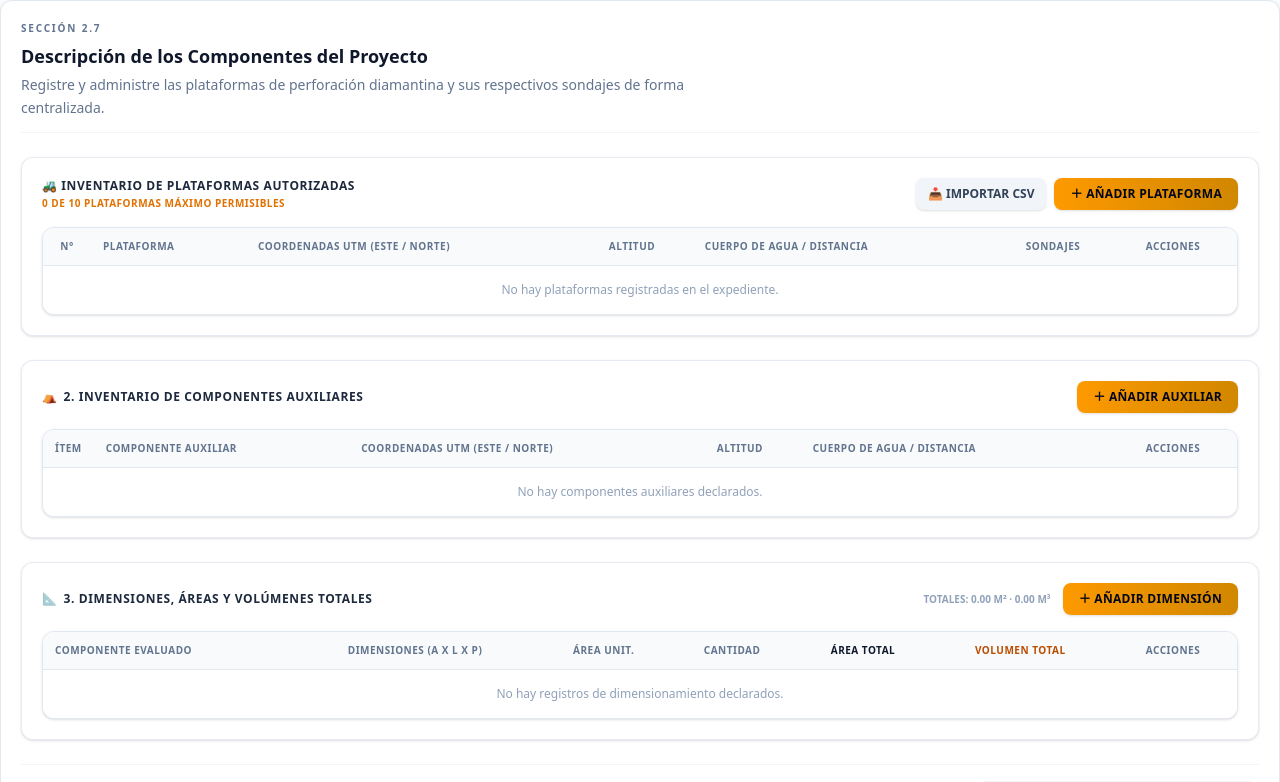
Test: ComponentesComponent › inventario de plataformas › cuenta los sondajes que se declararon en el popup
Click the button "＋ Añadir Plataforma" at {"x": 1146, "y": 194}, box [1054,178,1238,210]
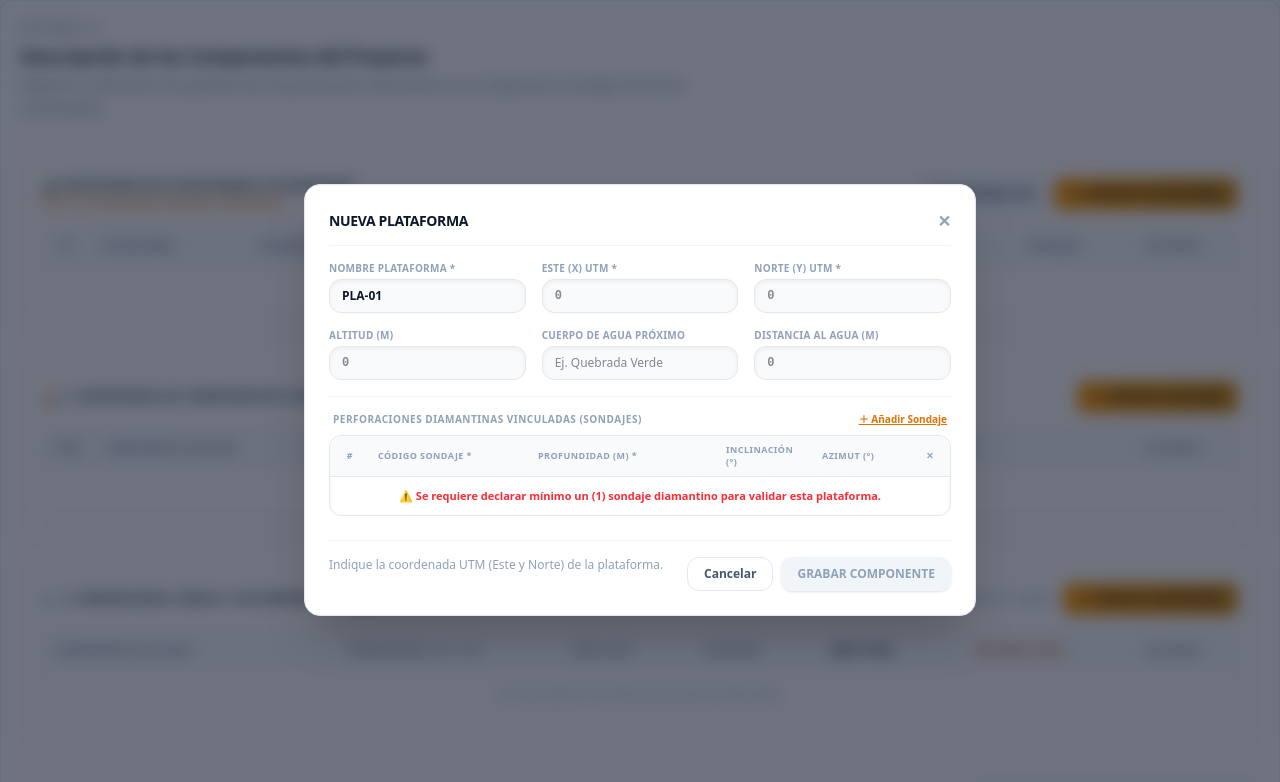
Replace the text in the field labelled "Nombre Plataforma *" with "PL-01" at {"x": 427, "y": 296}, box [329,279,526,313]
Type "431250" into the number field labelled "Este (X) UTM *" at {"x": 640, "y": 296}, box [542,279,738,313]
Type "8674320" into the number field labelled "Norte (Y) UTM *" at {"x": 853, "y": 296}, box [754,279,951,313]
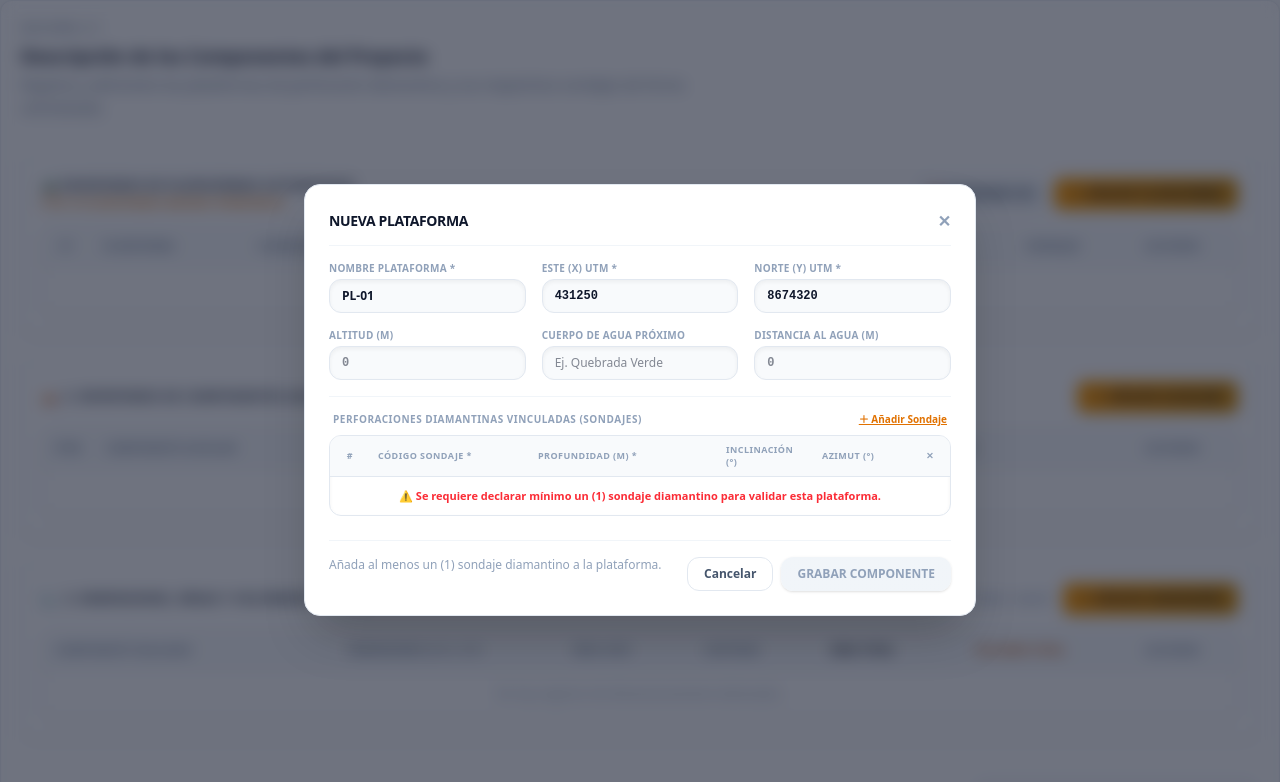
Click the button "＋ Añadir Sondaje" at {"x": 903, "y": 420}, box [859,413,947,427]
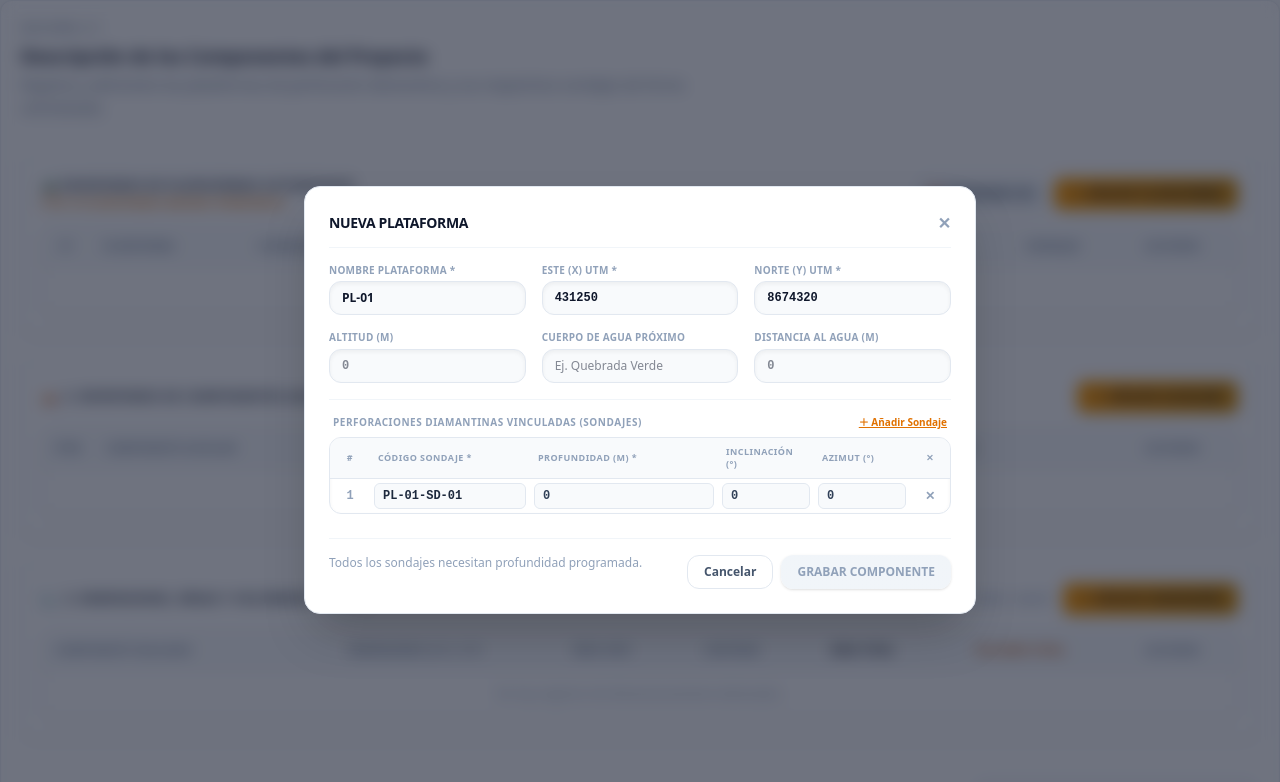
Replace the text in the 3rd field with "DDH-01" at {"x": 450, "y": 496}, box [374,483,526,509]
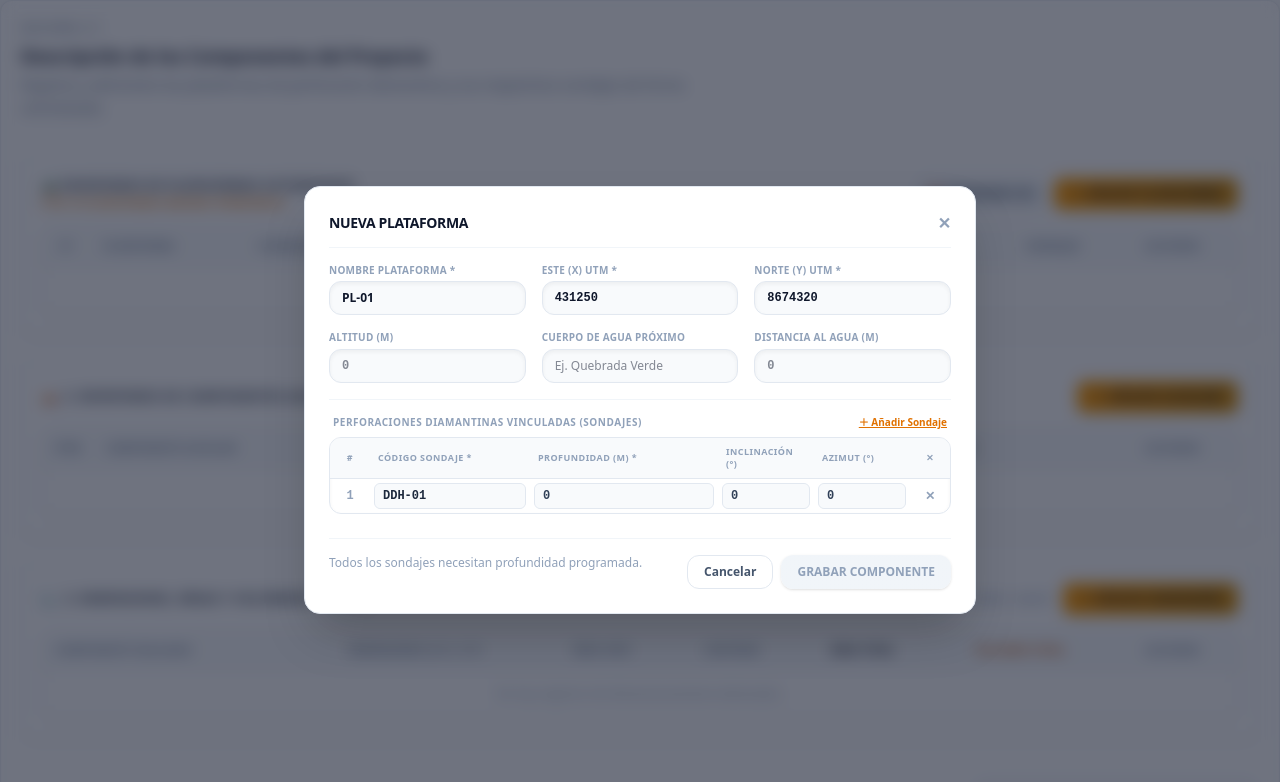
Type "100" into the 5th number field at {"x": 624, "y": 496}, box [534,483,714,509]
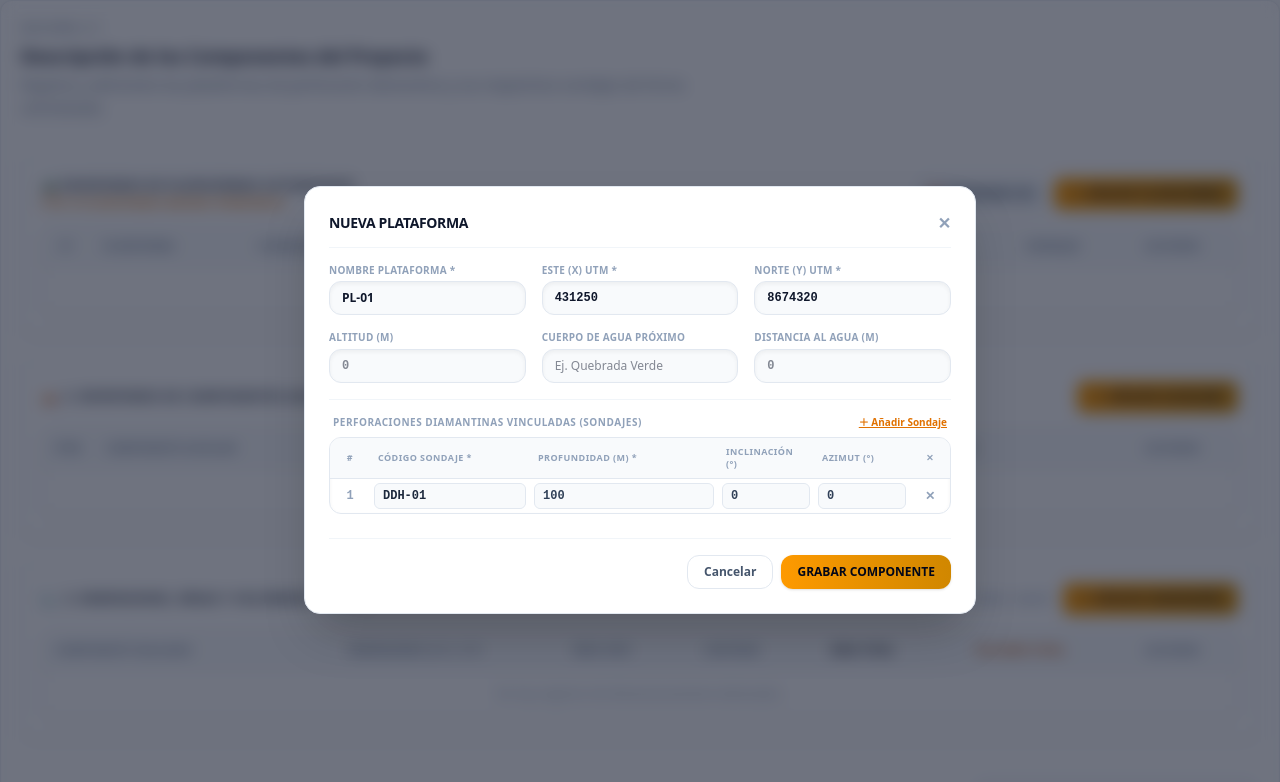
Click the button "Grabar Componente" at {"x": 866, "y": 572}, box [782,555,951,589]
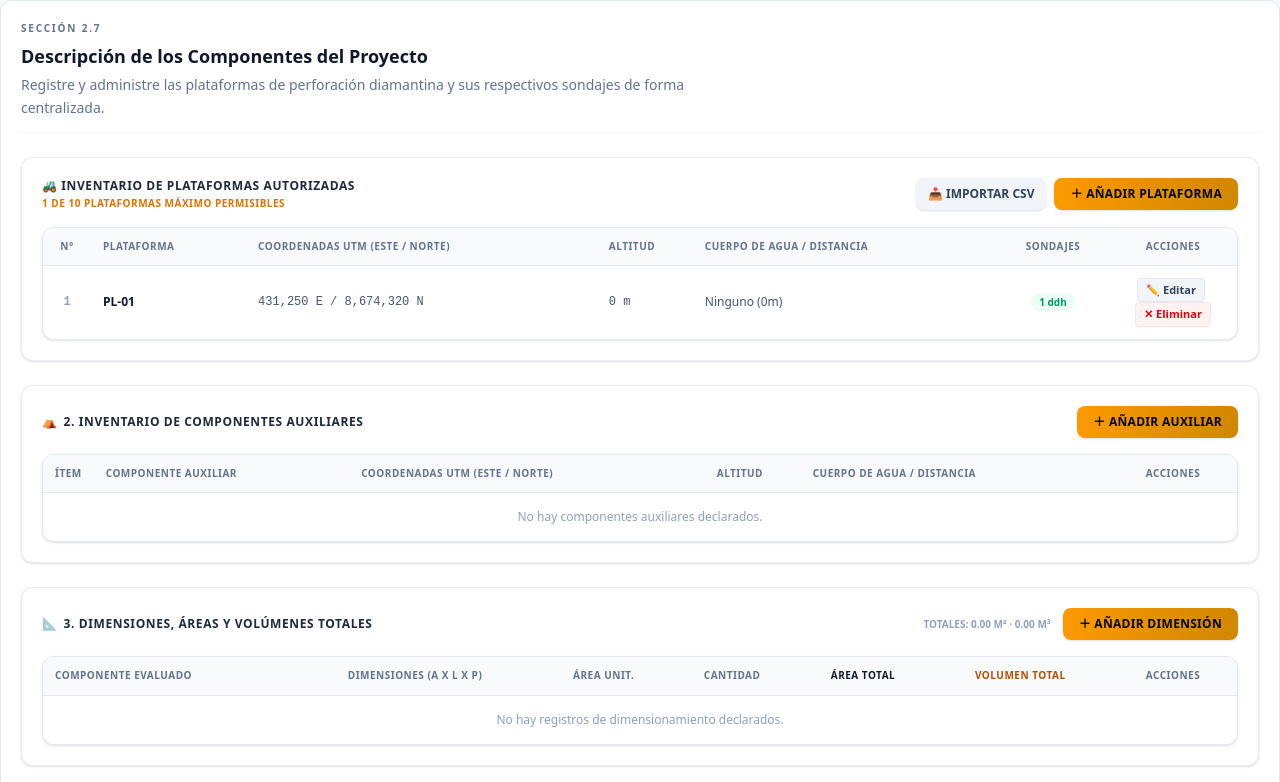
Check: the cell "1 ddh" is shown, box [997,265,1109,339]
